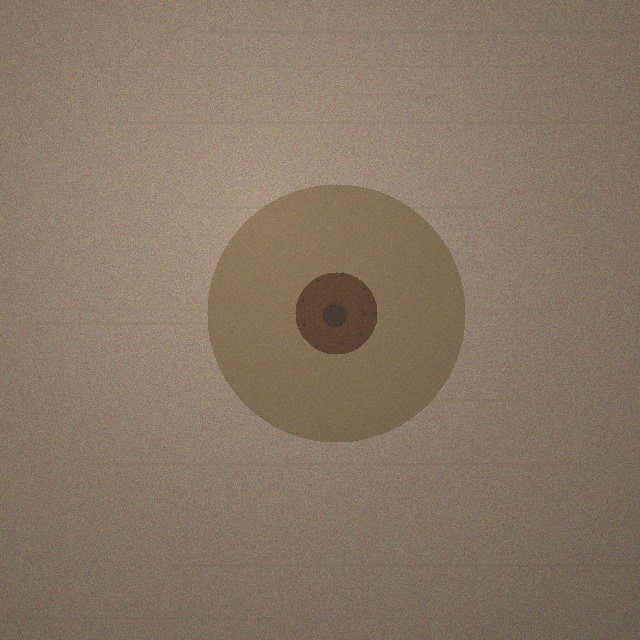cold_weld: (207, 184, 465, 442)
